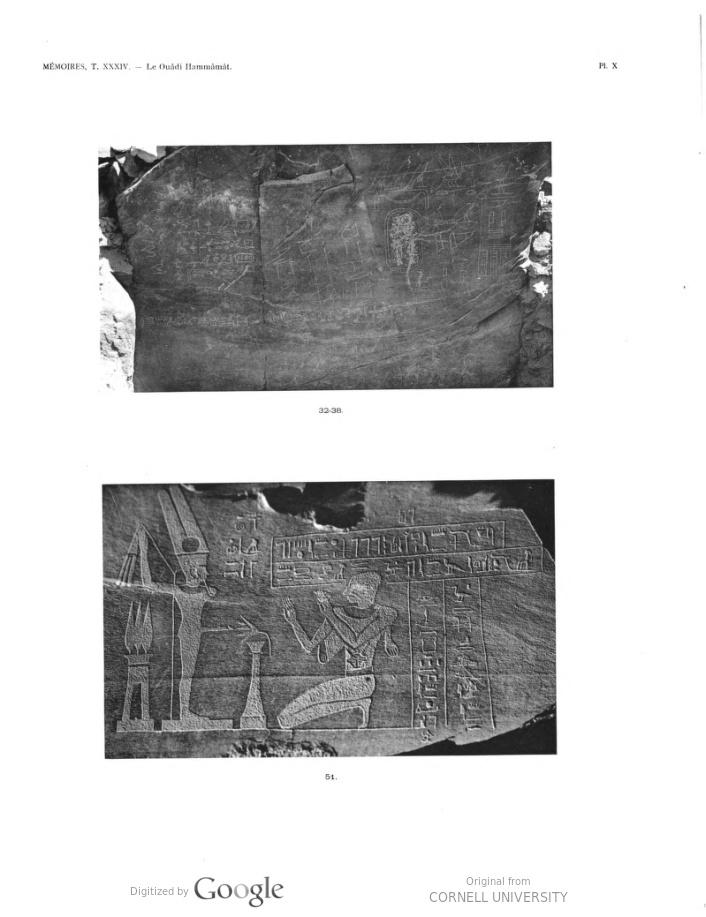circle: (377, 198, 443, 287)
